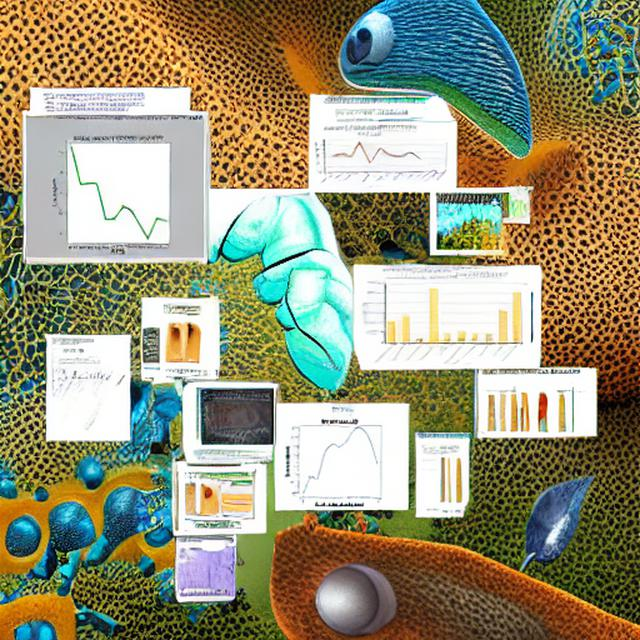Graph: (29, 127, 204, 258), (361, 268, 526, 366), (276, 414, 401, 508), (311, 124, 428, 190), (203, 395, 274, 445), (49, 358, 111, 394)
